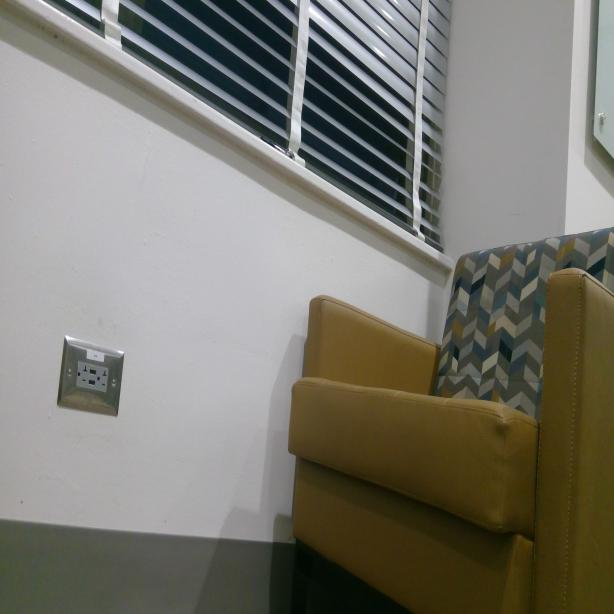typeb: (75, 360, 89, 390), (96, 367, 108, 391)
